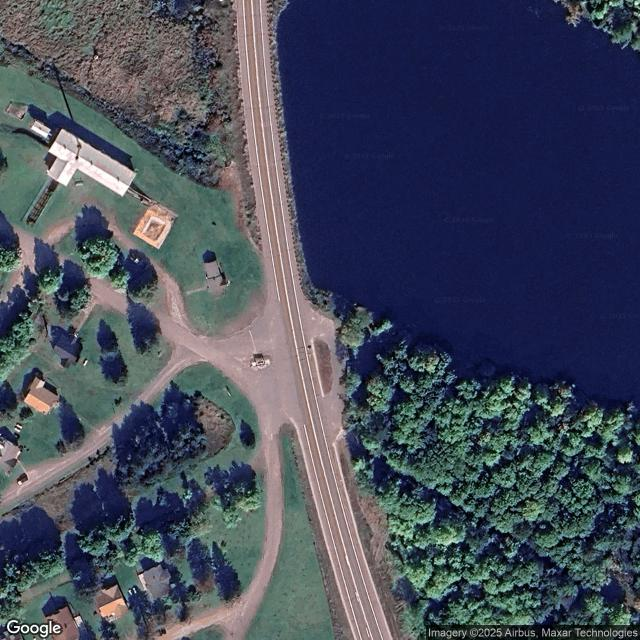Propane: (16, 423, 24, 430), (82, 359, 89, 367), (132, 587, 138, 594), (14, 427, 21, 433), (128, 589, 133, 597)
